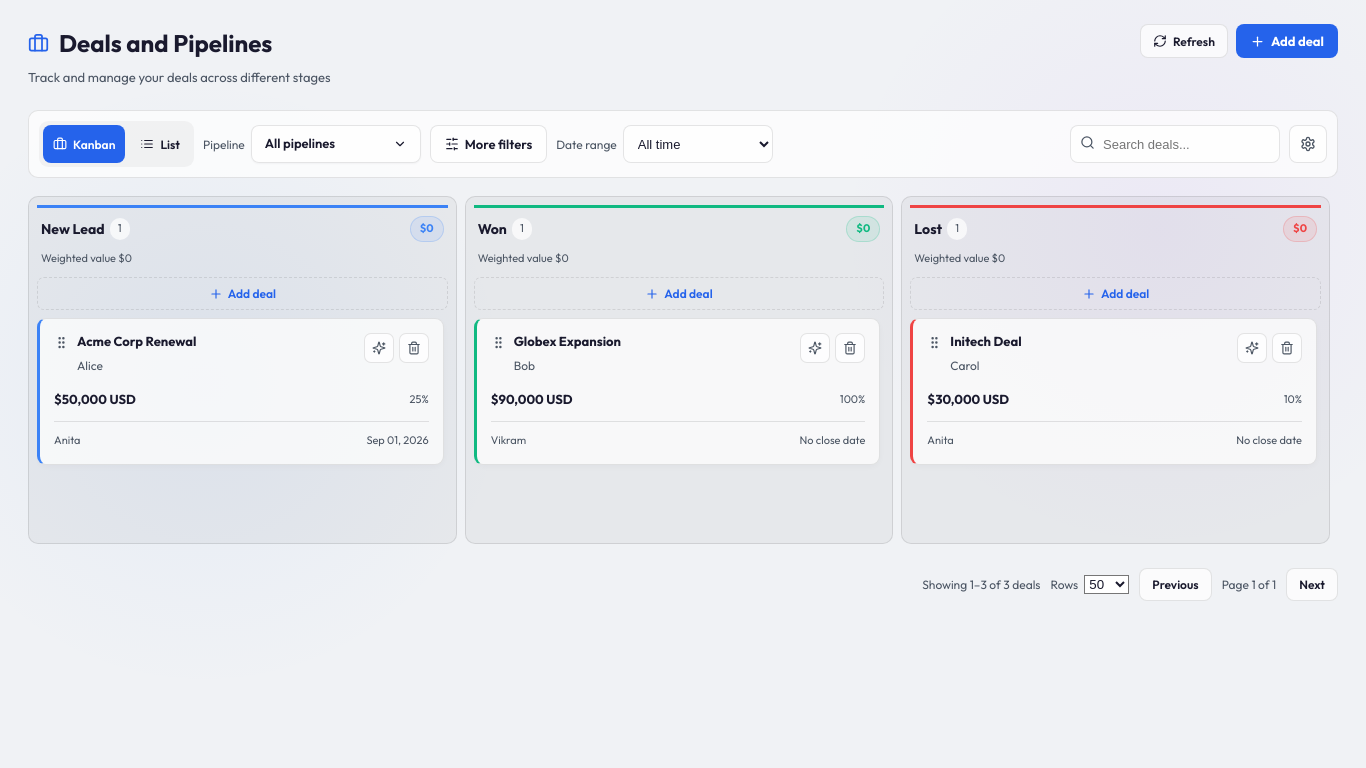
Test: Deals and Pipelines page › switches to List view and renders the list columns
The width and height of the screenshot is (1366, 768).
Check: the heading "Acme Corp Renewal" is shown, box [77, 333, 196, 349]
Click the button "List": (160, 144) [130, 125, 190, 163]
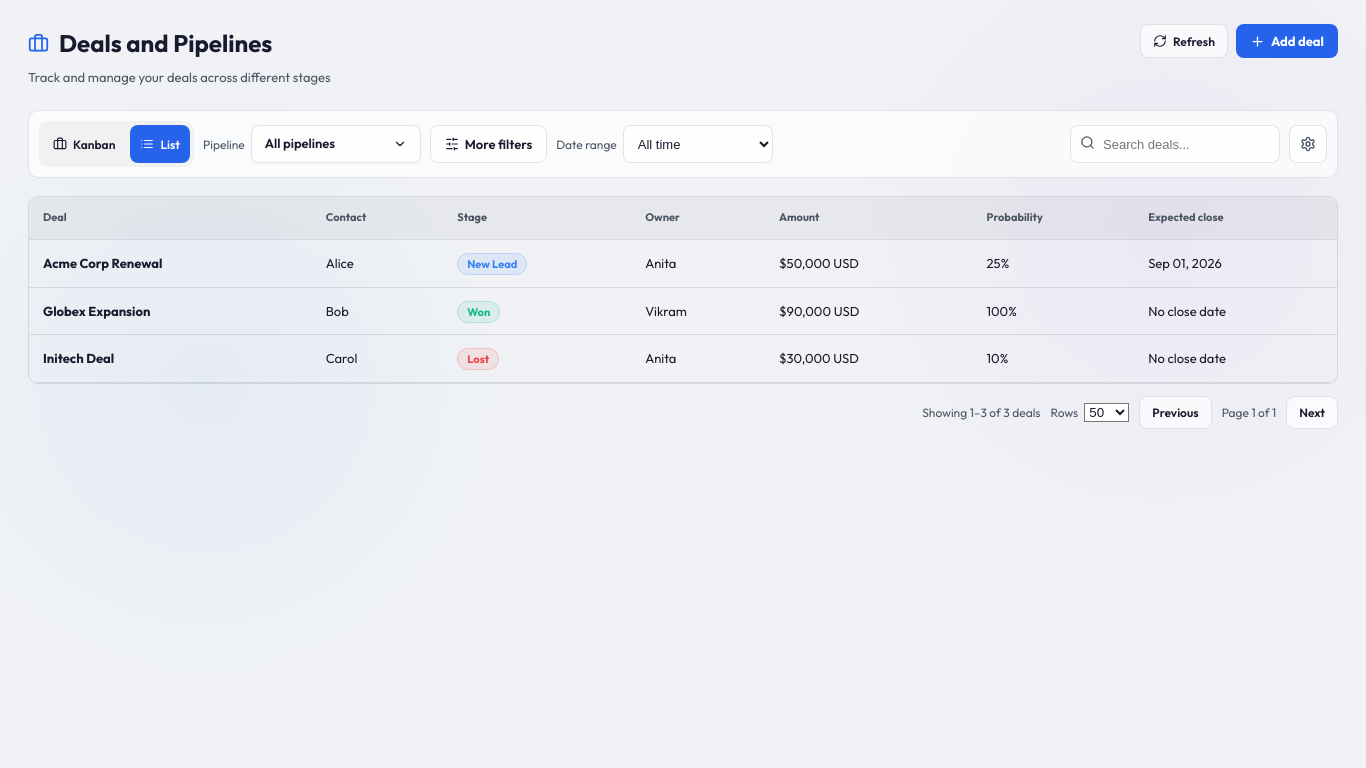
Check: the column heading "Contact" is shown, box [312, 197, 443, 239]
Check: the column heading "Stage" is shown, box [443, 197, 631, 239]
Check: the column heading "Owner" is shown, box [631, 197, 765, 239]
